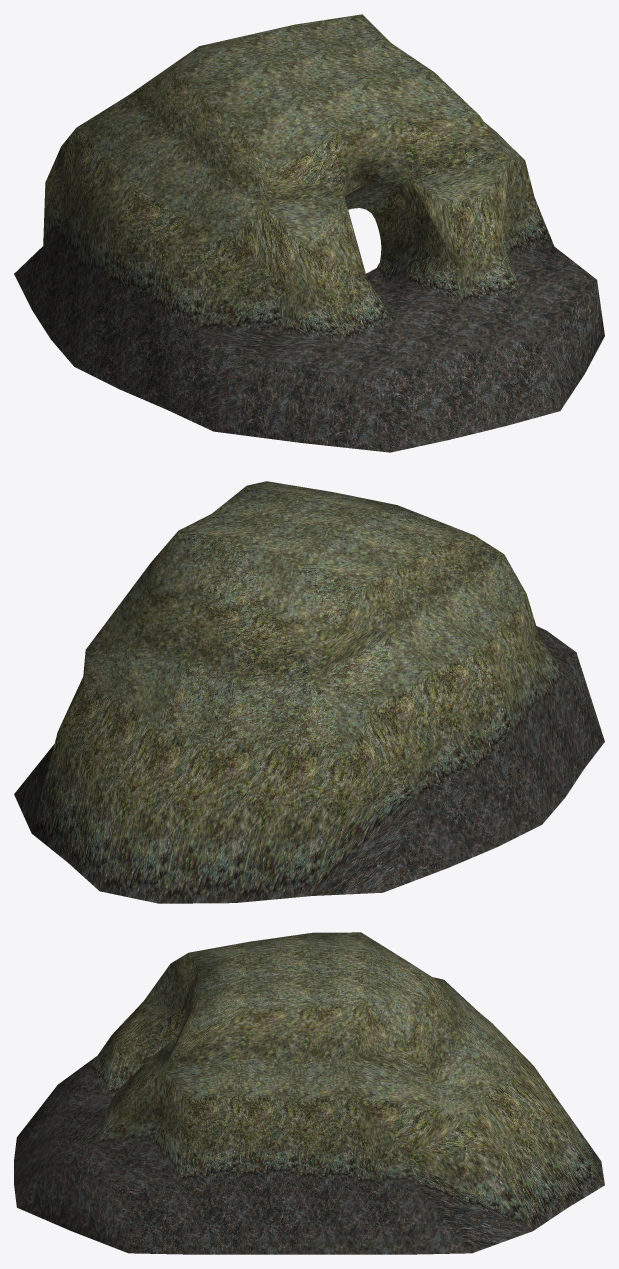
The model's file is thm_all_cave_flatland_s03_damprock_r0_mesh_l2.fbx.
The picture shows the model from 3 angles, top to bottom: view 1: azimuth 30°, elevation 25°; view 2: azimuth 150°, elevation 25°; view 3: azimuth 270°, elevation 25°; orthographic projection. The views are drawn at different scales.
Parts seen in each view (by area): view 1: mesh_node; view 2: mesh_node; view 3: mesh_node.
Boxes of the visible parts, box(x1,y1,x2,y2) form: mesh_node: box(14, 14, 604, 452); mesh_node: box(14, 481, 604, 903); mesh_node: box(14, 932, 604, 1254).
Size of the model in its own units: 56.42 by 31.42 by 78.77.
